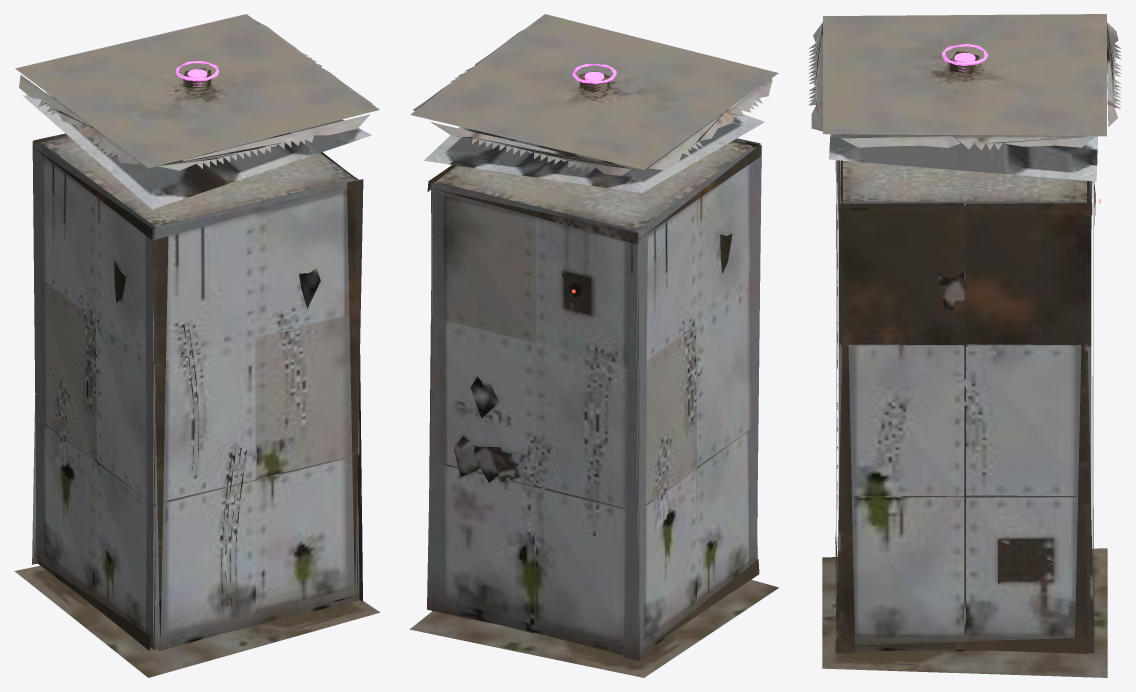
Rendered from muro_liga.glb.
3 renders of one model, left to right at view 1: azimuth 30°, elevation 25°; view 2: azimuth 150°, elevation 25°; view 3: azimuth 270°, elevation 25°, orthographic. The views are drawn at different scales.
Parts seen in each view (by area): view 1: muro_liga_corpo; view 2: muro_liga_corpo; view 3: muro_liga_corpo, mliga_c_anel.
Part boxes in pixels (x1,y1,x2,y2): muro_liga_corpo: (14,14,380,677); muro_liga_corpo: (409,14,778,677); muro_liga_corpo: (808,14,1121,677); mliga_c_anel: (942,43,987,71).
Bounding box in the file's own units: 0.7142 × 1.42 × 0.7142.
3 materials, 1 textured.
